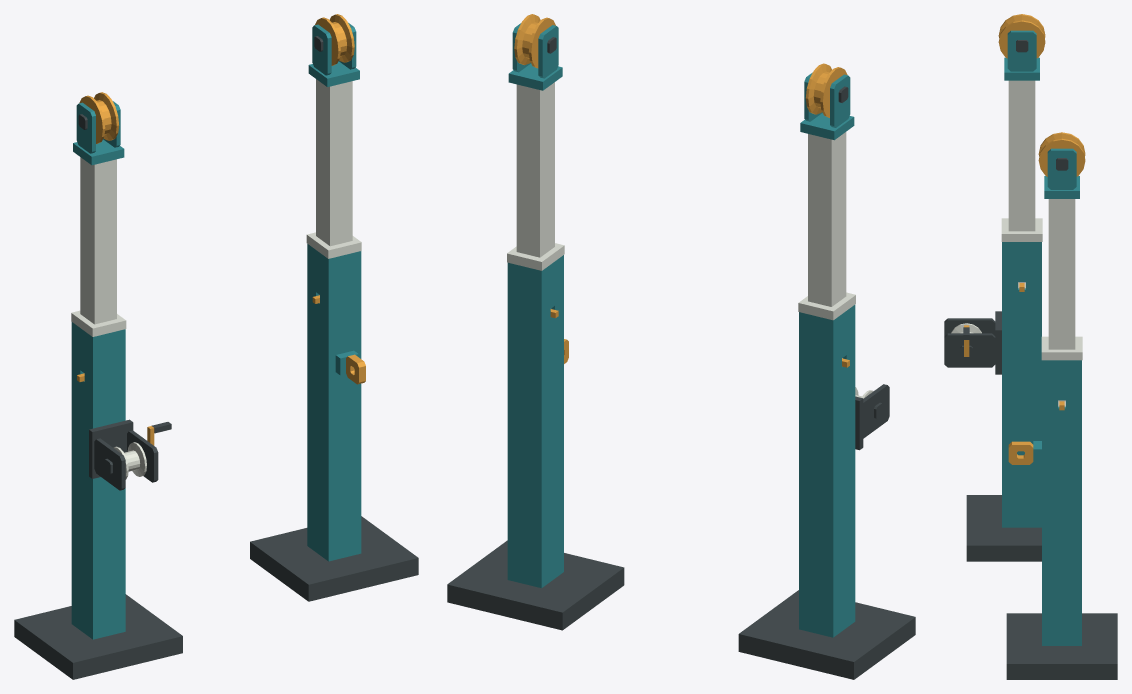
3 views of the same model, side by side, from view 1: azimuth 30°, elevation 25°; view 2: azimuth 150°, elevation 25°; view 3: azimuth 270°, elevation 25° (orthographic). The views are drawn at different scales.
Visible parts, largest first — view 1: Secondary_ThickHollowSleeve, Main_ThickHollowSleeve, Main_WideGroundBase, Secondary_WideGroundBase, Main_InnerPostWithShoulder, Secondary_InnerPostWithShoulder, Secondary_GroovedGuideWheel, Main_GroovedGuideWheel, Main_SpoolBackplate, Main_SpoolLeftEar, Main_TopLeftEar, Secondary_TopLeftEar (+4 smaller); view 2: Secondary_ThickHollowSleeve, Main_ThickHollowSleeve, Secondary_WideGroundBase, Main_WideGroundBase, Main_InnerPostWithShoulder, Secondary_InnerPostWithShoulder, Secondary_GroovedGuideWheel, Main_GroovedGuideWheel, Main_SpoolLeftEar, Secondary_TopLeftEar, Main_TopLeftEar, Secondary_TopBridge (+1 smaller); view 3: Secondary_ThickHollowSleeve, Main_ThickHollowSleeve, Secondary_WideGroundBase, Secondary_InnerPostWithShoulder, Main_InnerPostWithShoulder, Main_WideGroundBase, Main_SpoolRightEar, Main_TopRightEar, Secondary_TopRightEar, Main_GroovedGuideWheel, Secondary_GroovedGuideWheel, Main_SpoolLeftEar (+4 smaller).
Part boxes in pixels (<box>): Secondary_ThickHollowSleeve: <box>307,244,361,561</box>; Main_ThickHollowSleeve: <box>71,322,125,639</box>; Main_WideGroundBase: <box>14,594,182,679</box>; Secondary_WideGroundBase: <box>250,516,418,601</box>; Main_InnerPostWithShoulder: <box>71,157,126,336</box>; Secondary_InnerPostWithShoulder: <box>306,79,361,295</box>; Secondary_GroovedGuideWheel: <box>315,14,354,65</box>; Main_GroovedGuideWheel: <box>79,92,119,143</box>; Main_SpoolBackplate: <box>89,419,133,478</box>; Main_SpoolLeftEar: <box>94,438,125,490</box>; Main_TopLeftEar: <box>76,102,95,153</box>; Secondary_TopLeftEar: <box>312,24,331,75</box>; Secondary_ThickHollowSleeve: <box>507,255,563,588</box>; Main_ThickHollowSleeve: <box>799,305,855,637</box>; Secondary_WideGroundBase: <box>447,540,624,630</box>; Main_WideGroundBase: <box>738,590,915,679</box>; Main_InnerPostWithShoulder: <box>798,132,855,358</box>; Secondary_InnerPostWithShoulder: <box>507,82,564,270</box>; Secondary_GroovedGuideWheel: <box>514,14,555,68</box>; Main_GroovedGuideWheel: <box>805,63,847,117</box>; Main_SpoolLeftEar: <box>863,384,889,438</box>; Secondary_TopLeftEar: <box>538,25,558,78</box>; Main_TopLeftEar: <box>830,74,850,127</box>; Secondary_TopBridge: <box>508,63,562,90</box>; Secondary_ThickHollowSleeve: <box>1042,360,1081,645</box>; Main_ThickHollowSleeve: <box>1002,242,1041,527</box>; Secondary_WideGroundBase: <box>1006,613,1117,679</box>; Secondary_InnerPostWithShoulder: <box>1041,199,1082,406</box>; Main_InnerPostWithShoulder: <box>1001,80,1042,288</box>; Main_WideGroundBase: <box>966,495,1041,561</box>; Main_SpoolRightEar: <box>944,333,995,367</box>; Main_TopRightEar: <box>1007,30,1036,71</box>; Secondary_TopRightEar: <box>1047,148,1076,189</box>; Main_GroovedGuideWheel: <box>998,14,1045,58</box>; Secondary_GroovedGuideWheel: <box>1038,132,1085,176</box>; Main_SpoolLeftEar: <box>944,318,995,335</box>.
Size of the model in its own units: 1.8 by 2.58 by 0.78.
